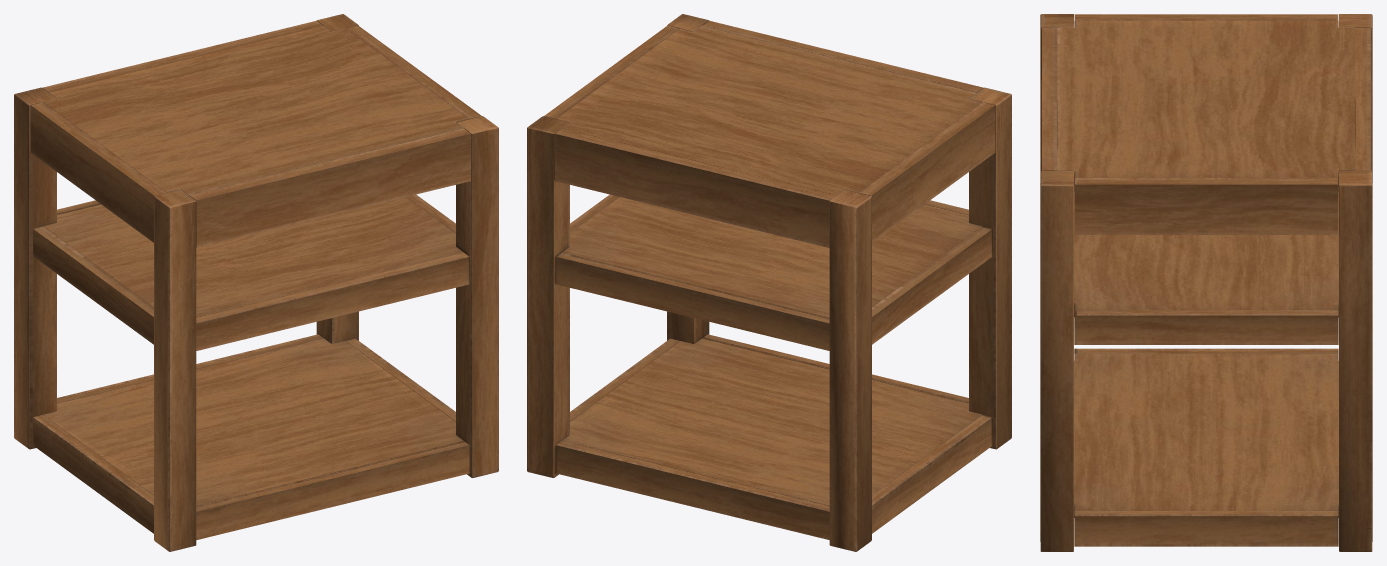
Rendered from fu_side_table.fbx.
3 renders of one model, left to right at view 1: azimuth 30°, elevation 25°; view 2: azimuth 150°, elevation 25°; view 3: azimuth 270°, elevation 25°, orthographic. The views are drawn at different scales.
Parts seen in each view (by area): view 1: fu_side_table_LOD0; view 2: fu_side_table_LOD0; view 3: fu_side_table_LOD0.
Boxes of the visible parts, x1=… form: fu_side_table_LOD0: x1=14, y1=14, x2=498, y2=551; fu_side_table_LOD0: x1=527, y1=14, x2=1011, y2=551; fu_side_table_LOD0: x1=1040, y1=14, x2=1372, y2=551.
Size of what is drawn, in the model's own units: 0.55 by 0.5507 by 0.45.
Materials: 1 (1 with a texture image).
